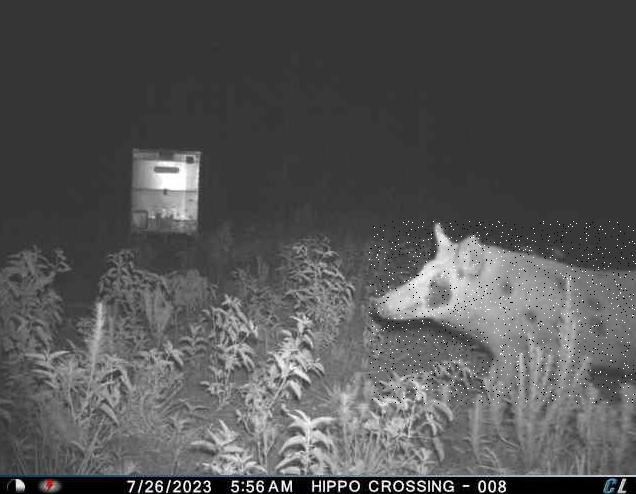Hog: (369, 221, 636, 404)
